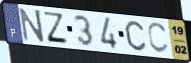3: (73, 14, 95, 47)
4: (100, 16, 119, 51)
C: (146, 22, 170, 55), (124, 20, 148, 53)
N: (18, 7, 46, 44)
Z: (43, 10, 69, 45)
